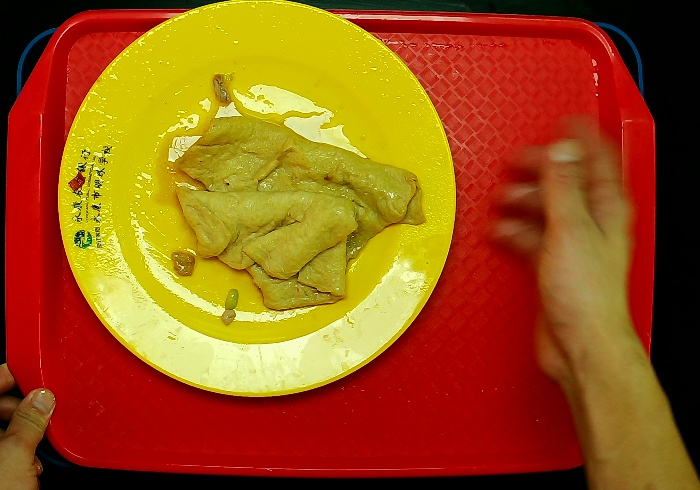YKMZ-Huang_Se_Mian_Pan: (55, 1, 456, 398)
